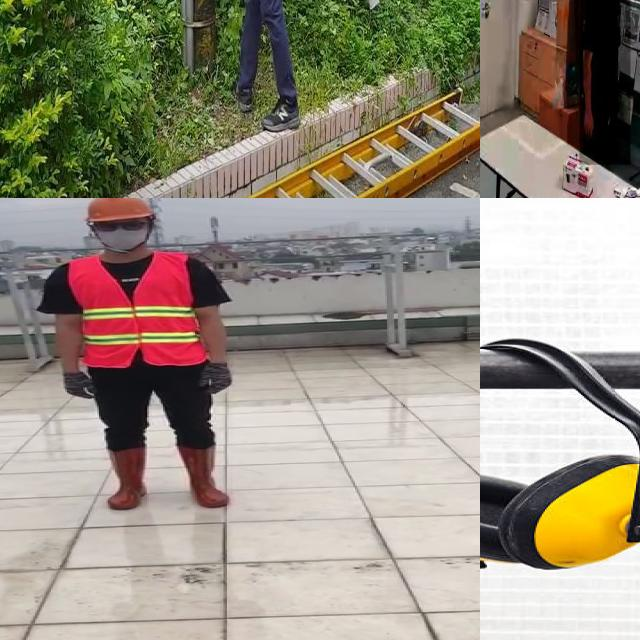Ear-protection: (480, 333, 640, 563)
boots: (175, 446, 236, 508), (104, 445, 154, 512)
glasses: (91, 218, 152, 234)
hand_glove: (58, 372, 97, 401), (200, 362, 232, 397)
hand_noglove: (581, 109, 594, 142)
head_helmet: (82, 198, 156, 222)
person: (579, 0, 630, 165)
vest: (69, 252, 209, 367)
